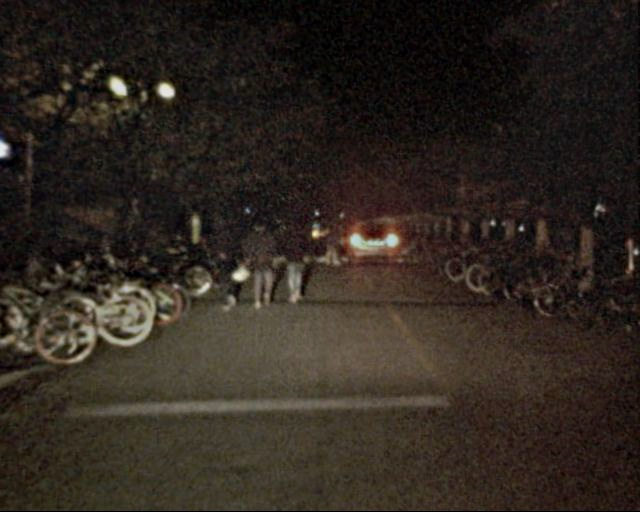person: (210, 214, 244, 314), (248, 221, 277, 312), (284, 214, 309, 302), (324, 222, 344, 270)
